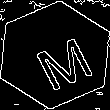M_NW: (20, 22, 90, 88)
